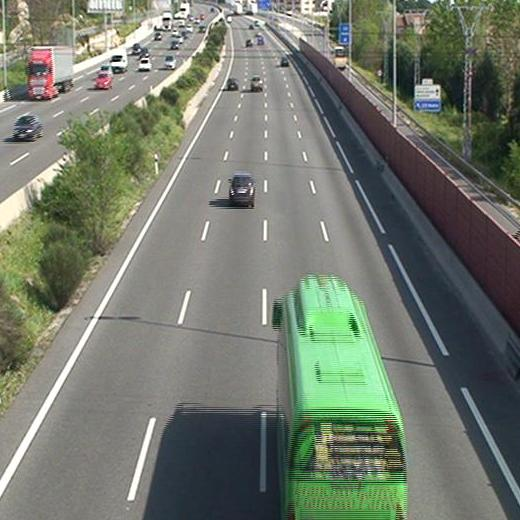bus: (274, 277, 407, 519)
car: (228, 173, 255, 205), (249, 75, 261, 90), (227, 77, 239, 89), (279, 56, 288, 65)
